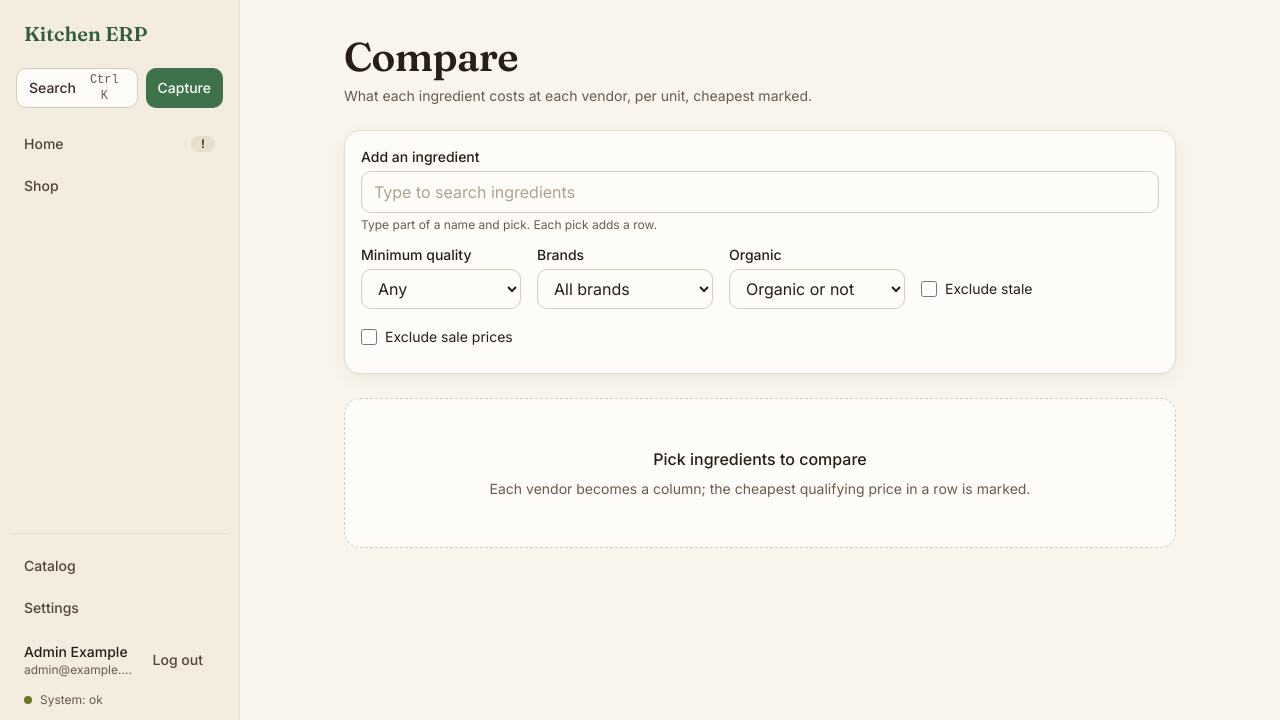
Scenario: comparison matrix › says when the chosen ingredients have no prices, and offers a shelf price (G11)
Type "flour" into the dropdown labelled "Add an ingredient" at (760, 192), box [361, 171, 1159, 213]
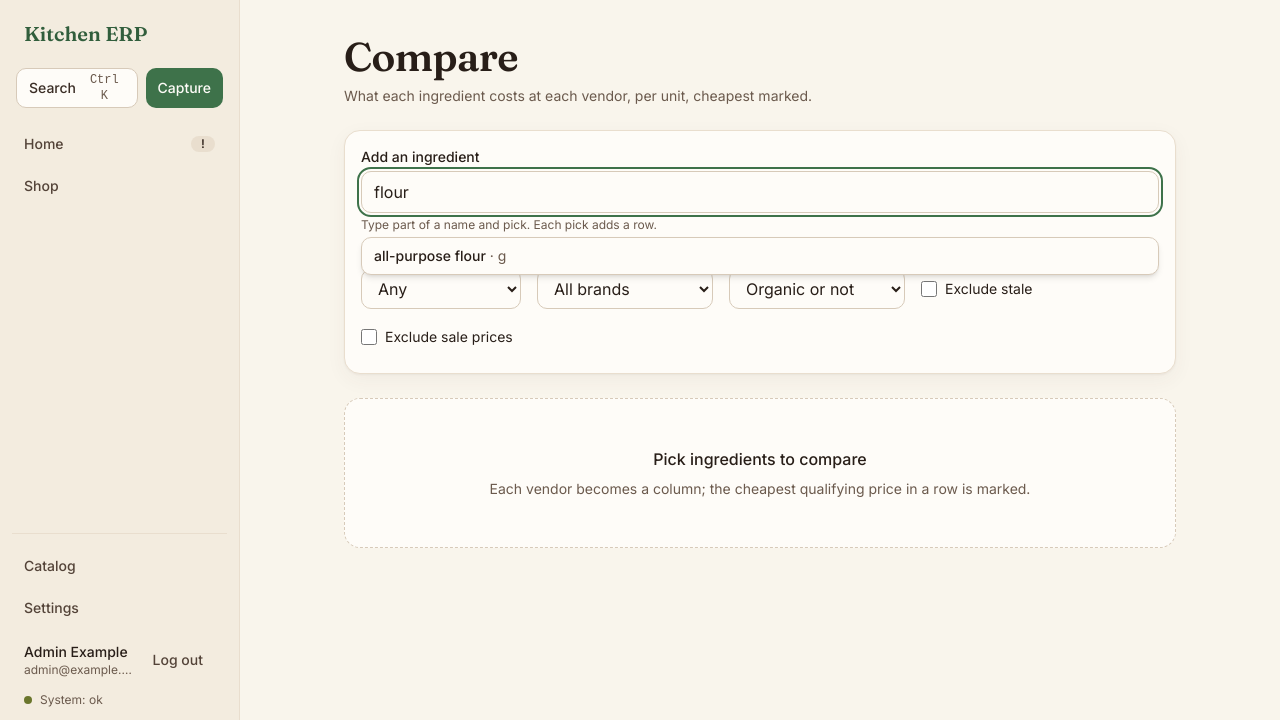
Click the option "all-purpose flour · g" at (440, 256), box [374, 247, 506, 264]
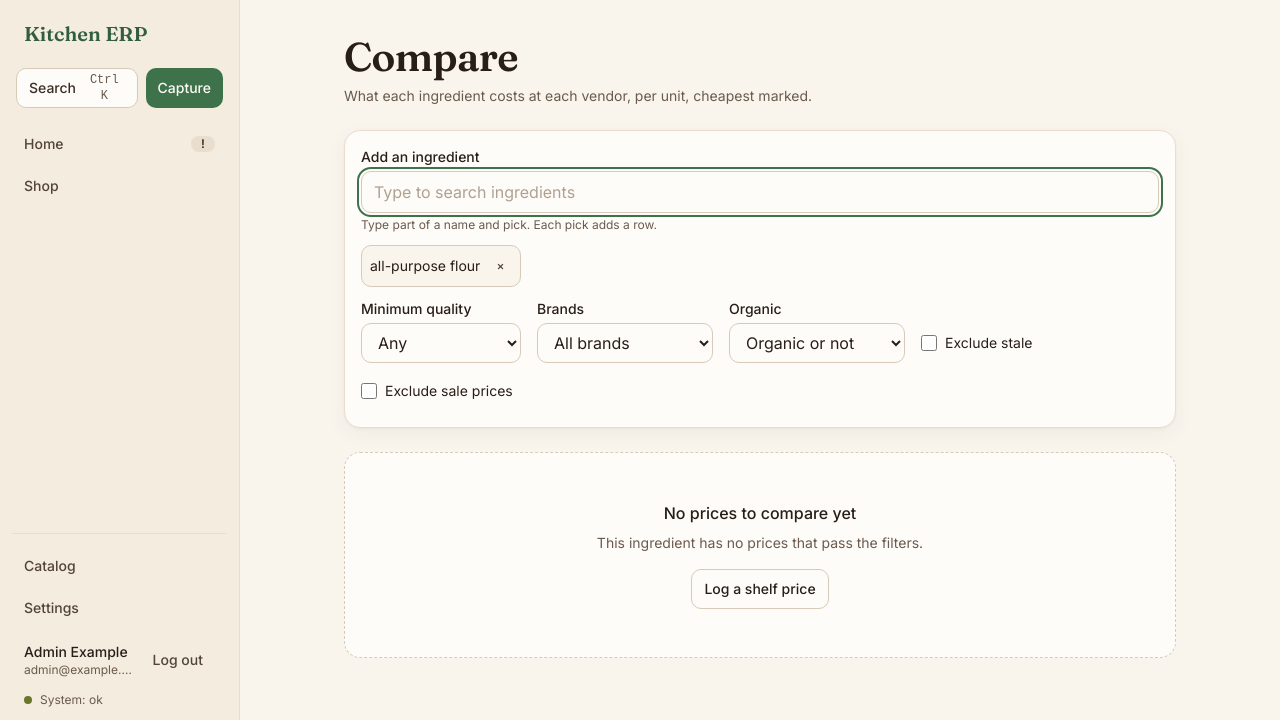
Now the element "No prices to compare yet" shows "This ingredient has no prices that pass the filters.", box [344, 452, 1176, 658]
